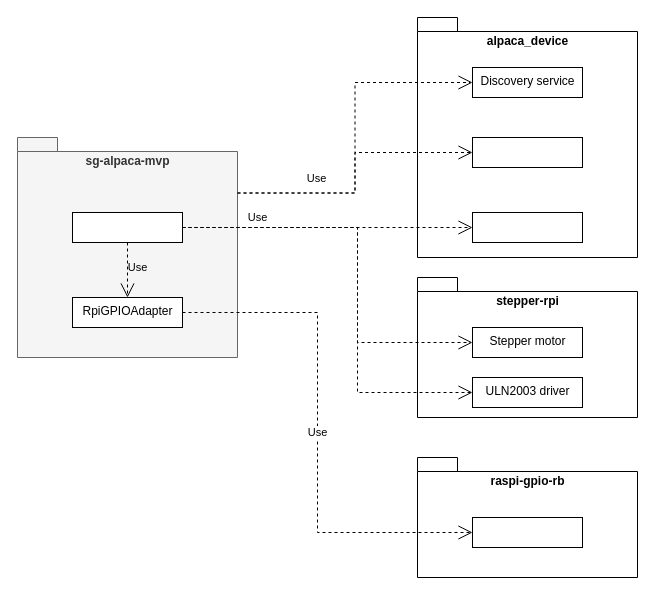
Image size: 655x595. Some labels were removed from this diagram. Here are the shapes that lost their labels. From the top down, the centre of each, then its label:
At point (527, 152): "Device API service".
At point (127, 227): "SGSimpleFocuser".
At point (527, 227): "BaseFocuser".
At point (527, 532): "GPIO".
